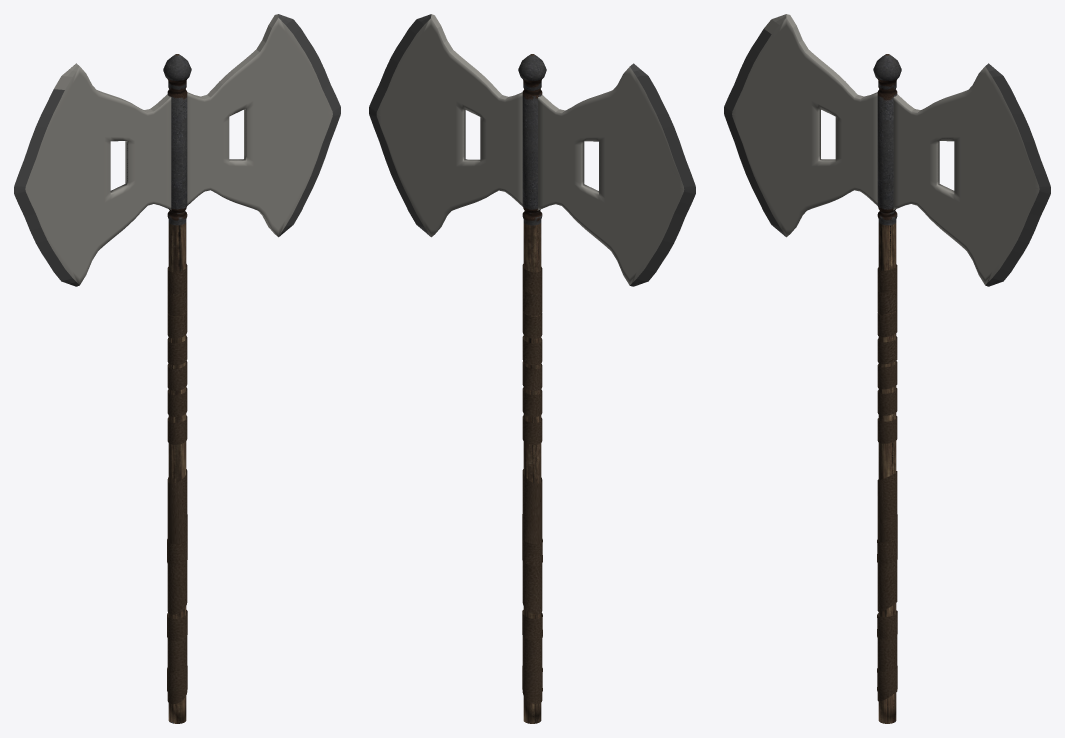
Rendered from Axe.fbx.
3 views of the same model, side by side, from view 1: azimuth 30°, elevation 25°; view 2: azimuth 150°, elevation 25°; view 3: azimuth 330°, elevation 25° (orthographic).
Visible parts, largest first — view 1: Plane.006; view 2: Plane.006; view 3: Plane.006.
Part boxes in pixels (<box>): Plane.006: <box>14,14,340,723</box>; Plane.006: <box>369,14,695,723</box>; Plane.006: <box>724,14,1050,723</box>.
Size of the model in its own units: 239 by 476 by 18.08.
